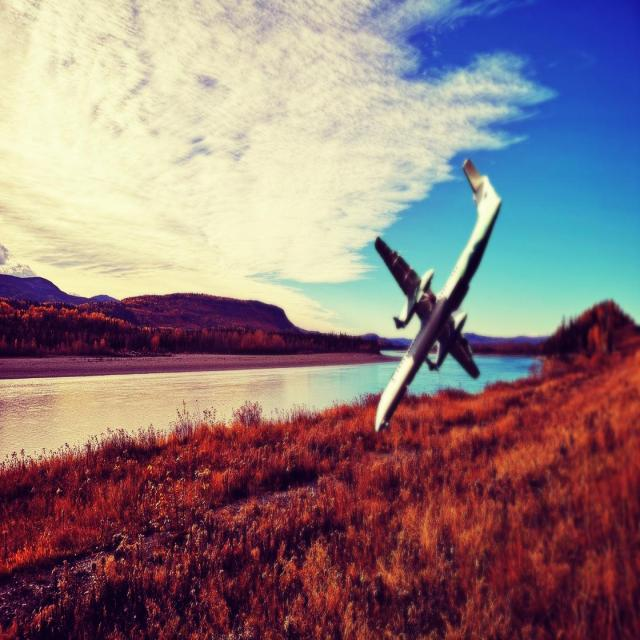airplane: (372, 157, 502, 433)
